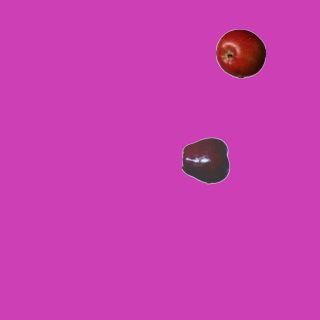Apple Braeburn: (215, 28, 265, 78)
Apple Red Delicious: (181, 135, 231, 185)
